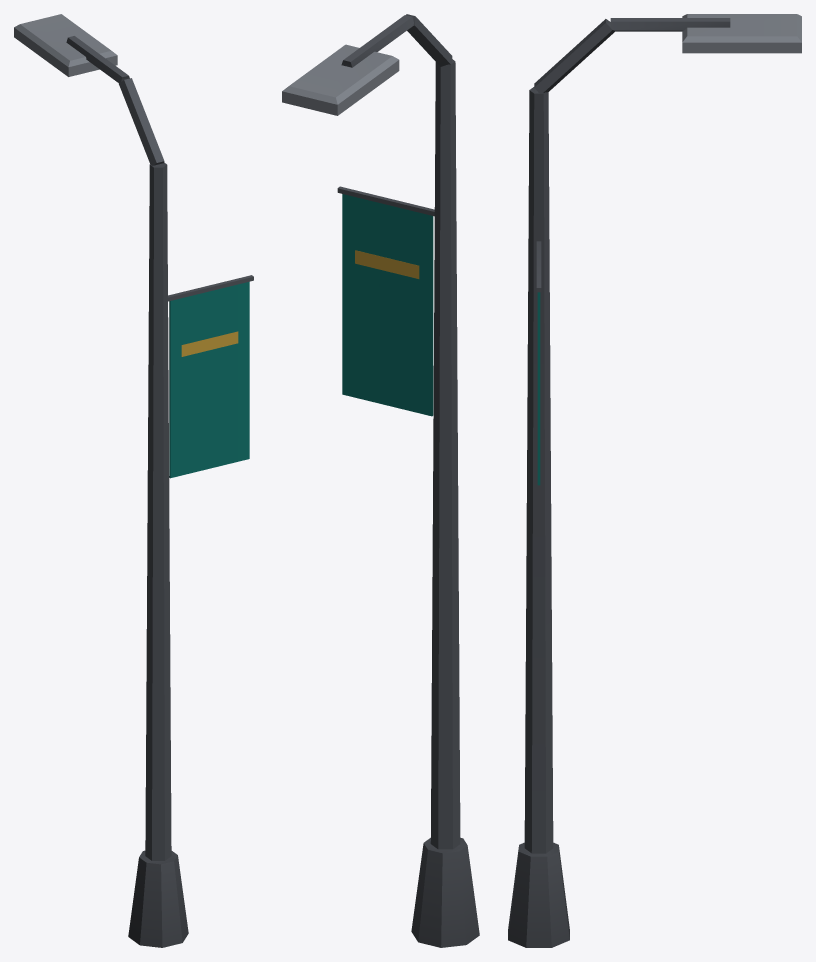
The model's file is lamp_street_01.glb.
The picture shows the model from 3 angles, left to right: view 1: azimuth 30°, elevation 25°; view 2: azimuth 150°, elevation 25°; view 3: azimuth 270°, elevation 25°; orthographic projection. The views are drawn at different scales.
Visible parts, largest first — view 1: lamp_street_01_mesh; view 2: lamp_street_01_mesh; view 3: lamp_street_01_mesh.
Part boxes in pixels (bbox=[...]): lamp_street_01_mesh: bbox=[14, 14, 253, 947]; lamp_street_01_mesh: bbox=[282, 14, 479, 947]; lamp_street_01_mesh: bbox=[508, 14, 801, 947].
Bounding box in the file's own units: 0.63 × 4.22 × 1.23.
Materials: 2 (2 with a texture image).
